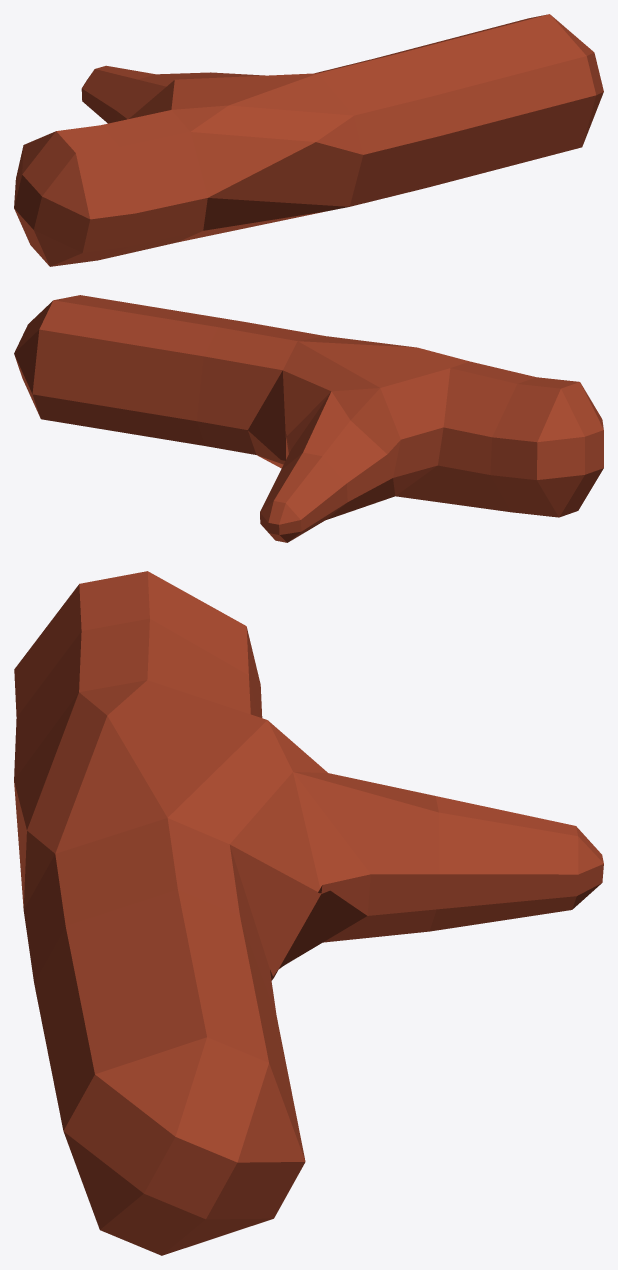
The model's file is Log3.fbx.
The picture shows the model from 3 angles, top to bottom: view 1: azimuth 30°, elevation 25°; view 2: azimuth 150°, elevation 25°; view 3: azimuth 270°, elevation 25°; orthographic projection. The views are drawn at different scales.
Visible parts, largest first — view 1: Vert; view 2: Vert; view 3: Vert.
Part boxes in pixels (x1,y1,x2,y2): Vert: (14, 14, 603, 266); Vert: (14, 295, 603, 542); Vert: (14, 571, 603, 1255).
Bounding box in the file's own units: 174 × 42.23 × 88.47.
